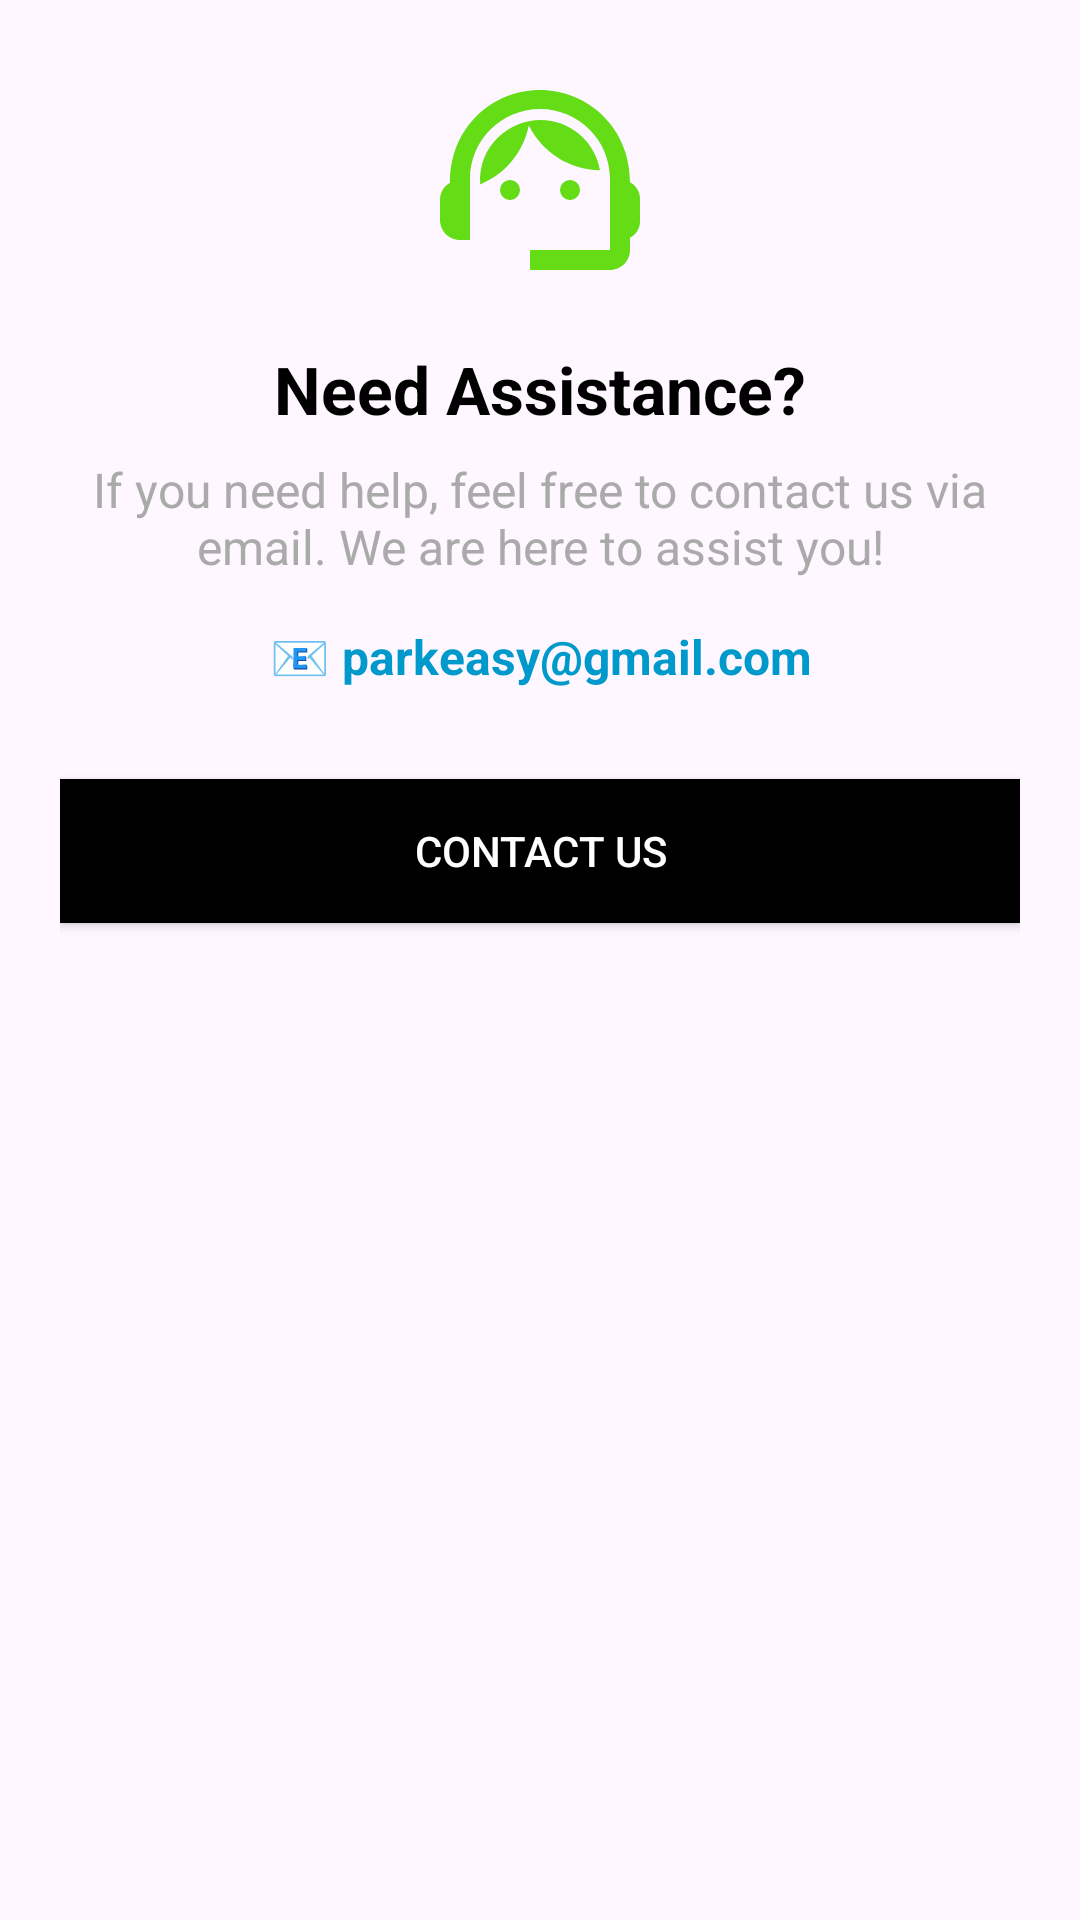

Icons on this 1080px×1920px Android screen, each with the point to tap as point (x, y):
Support Icon: point (540, 180)
